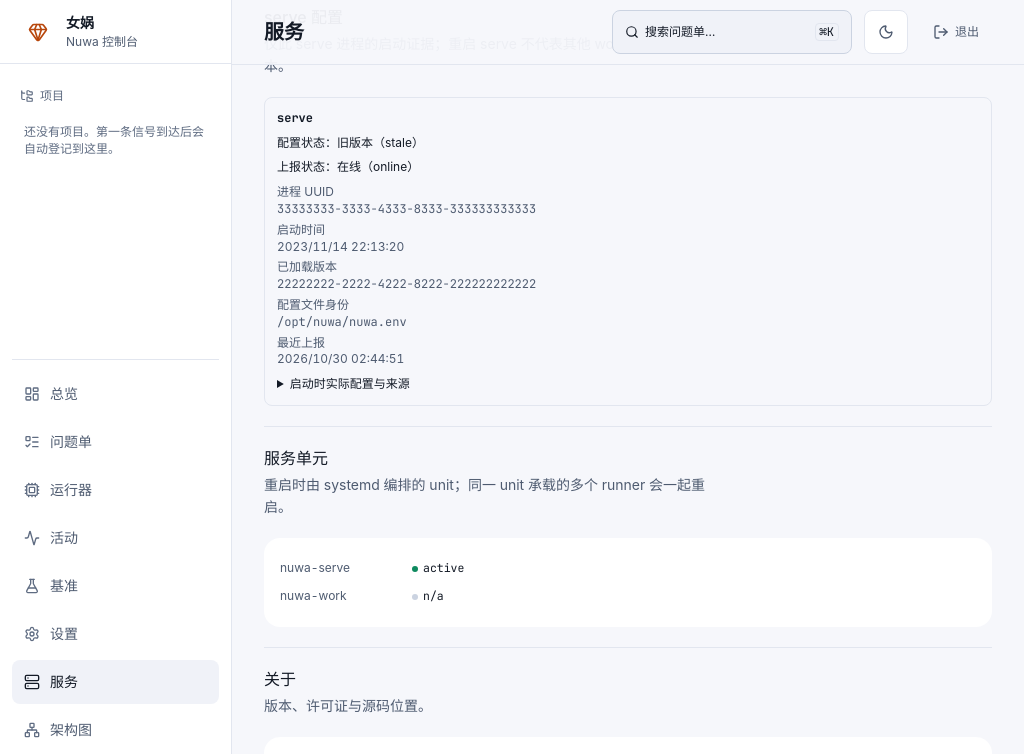
Scenario: SystemPage › shows only this serve's startup evidence and refreshes its activation independently
(page scrolled)
Expected: the text "配置状态：旧版本（stale）" is shown, [277,134,424,150]
Expected: the text "上报状态：在线（online）" is shown, [277,159,419,174]
Click the heading "启动时实际配置与来源".
click(350, 384)  # box [290,376,410,391]
(page scrolled)
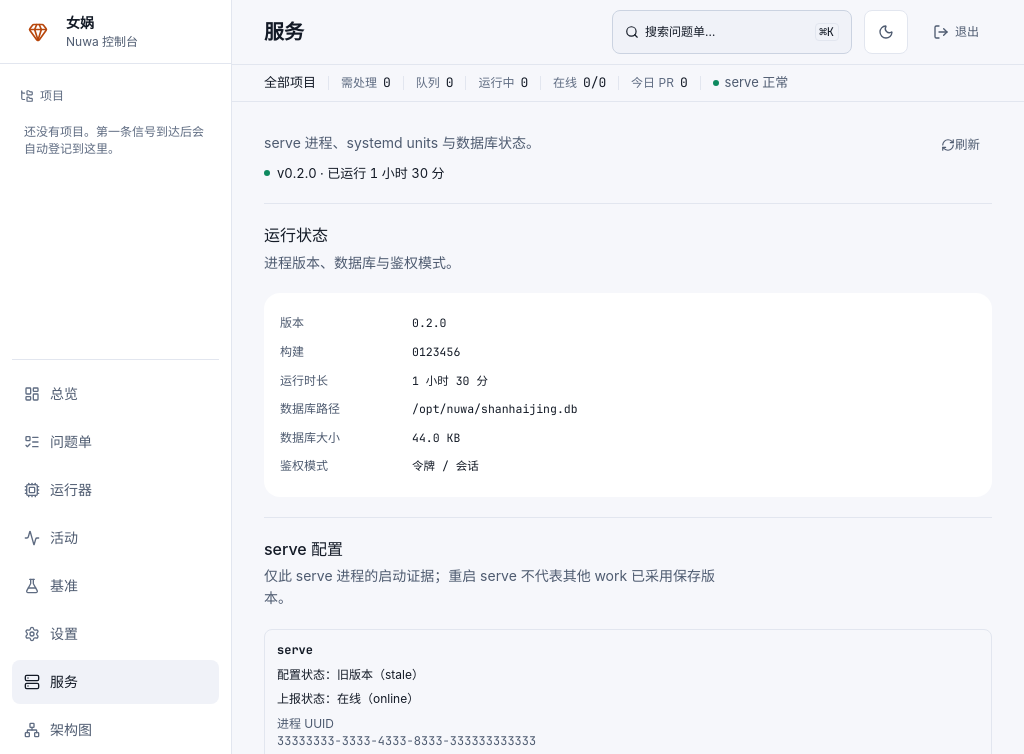
Expected: the text "仅此 serve 进程的启动证据；重启 serve 不代表其他 work 已采用保存版本。" is shown, [264,565,723,609]
Click the button "刷新".
click(960, 144)  # box [929,128,992,160]
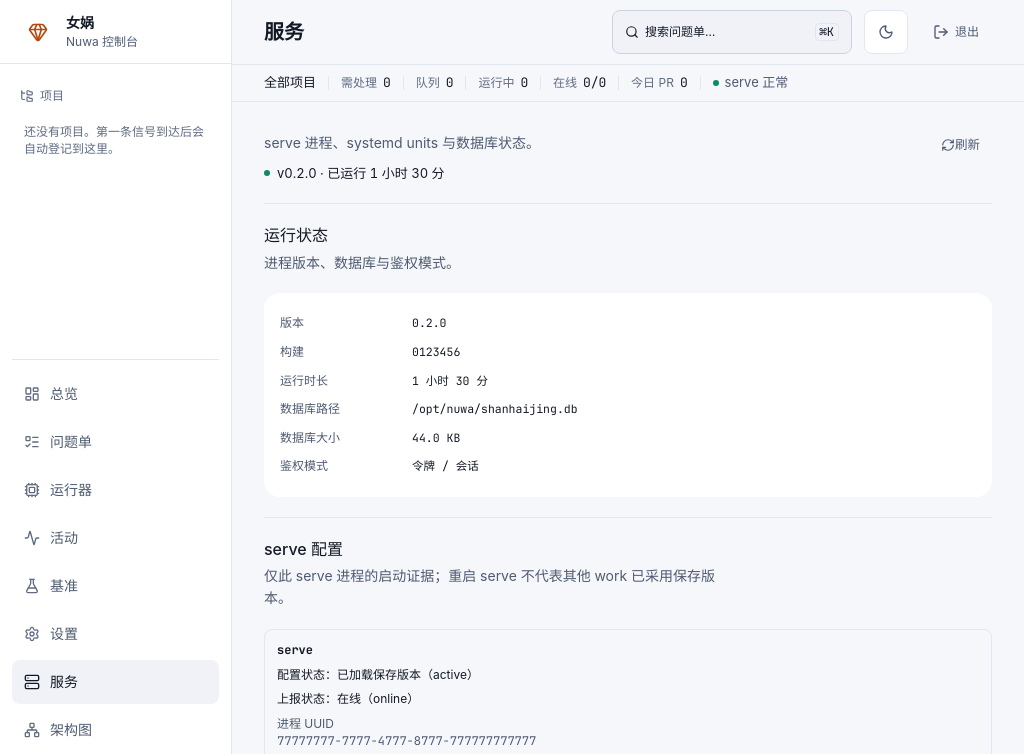
Result: the text "配置状态：已加载保存版本（active）" is shown at [277,666,479,682]
Result: the text "77777777-7777-4777-8777-777777777777" is shown at [277,733,536,749]
